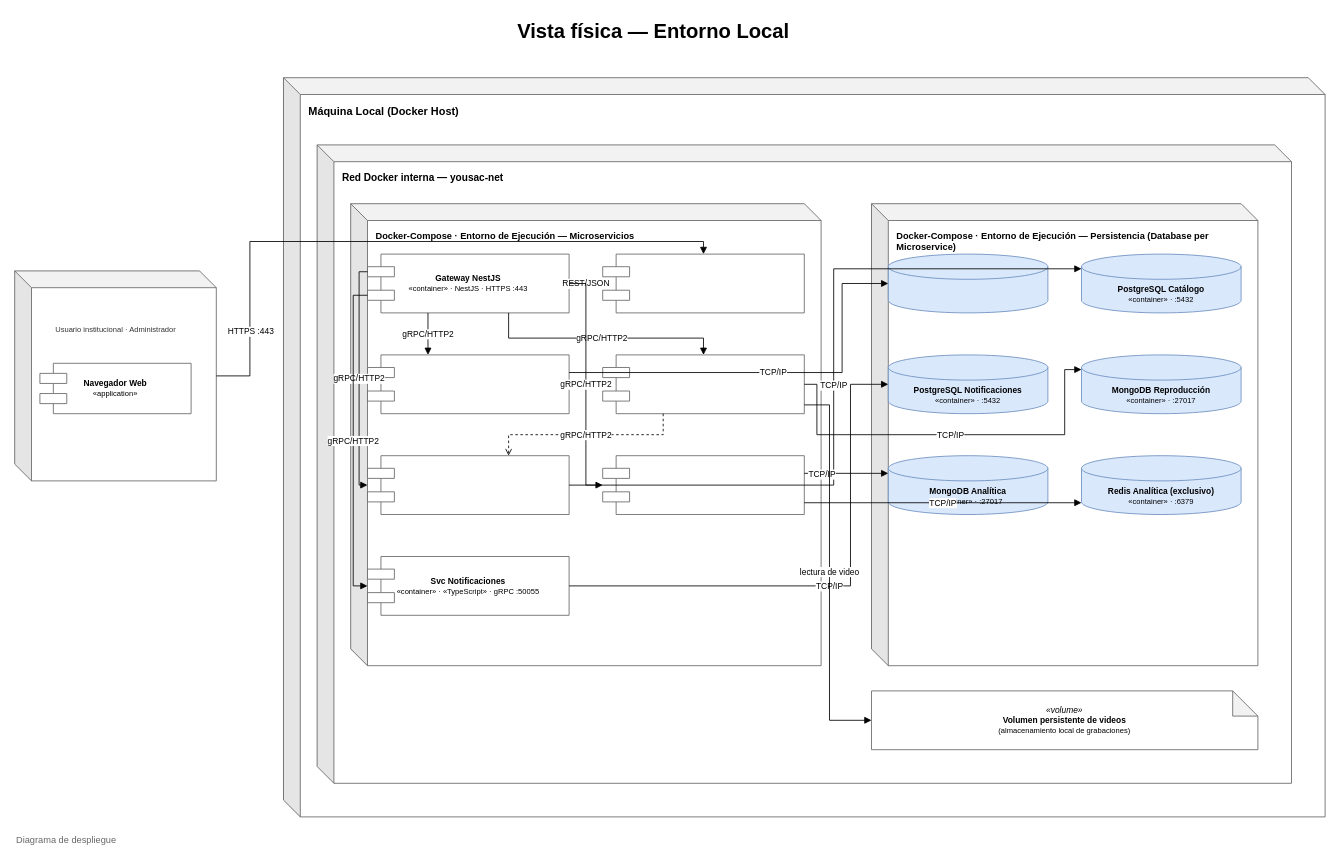
The diagram is 1340 pixels wide and 864 high, and some of its shapes have lost their labels. The shapes that lost their labels are listed below. From the top down, each one's box as (x1, y1, x2, y2) in pixels, then its label:
(602, 253, 804, 313): Frontend Next.js «container» · Next.js
(887, 253, 1048, 313): PostgreSQL Identidad «container» · :5432
(14, 270, 216, 481): Dispositivo Cliente (Hardware Local)
(367, 354, 569, 414): Svc Identidad «container» · «TypeScript» · gRPC :50051
(602, 354, 804, 414): Svc Reproducción «container» · «Go» · gRPC :50053
(367, 455, 569, 514): Svc Catálogo «container» · «TypeScript» · gRPC :50052
(602, 455, 804, 514): Svc Analítica «container» · «Python» · gRPC :50054
